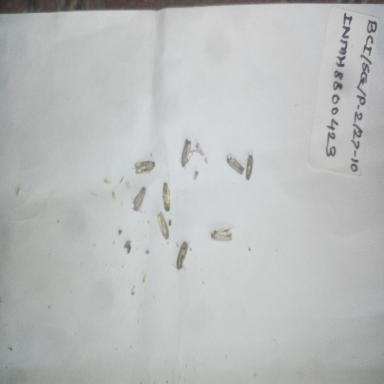pbw: (208, 225, 236, 244), (174, 238, 190, 270), (132, 157, 158, 176), (131, 184, 148, 213), (224, 154, 245, 177), (178, 137, 193, 169), (156, 210, 170, 244), (160, 180, 172, 214), (244, 153, 258, 182)
